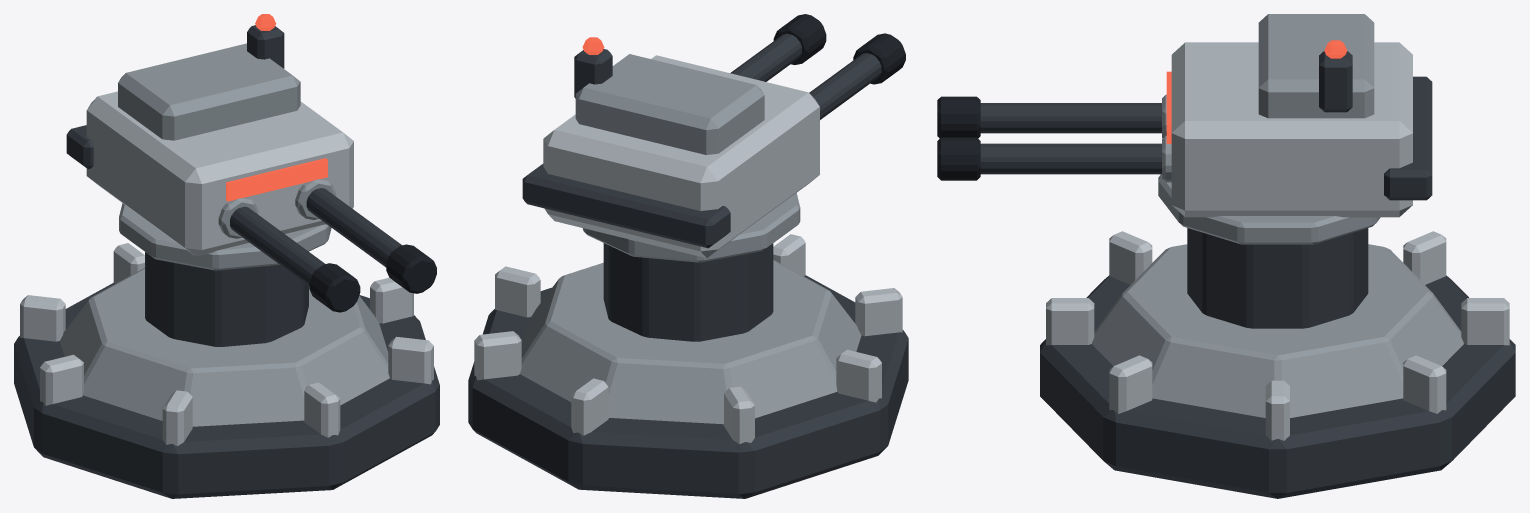
Rendered from exo-turret.glb.
3 views of the same model, side by side, from view 1: azimuth 30°, elevation 25°; view 2: azimuth 150°, elevation 25°; view 3: azimuth 270°, elevation 25° (orthographic). The views are drawn at different scales.
Visible parts, largest first — view 1: body, head; view 2: body, head; view 3: body, head.
Boxes of the visible parts, box(x1,y1,x2,y2) form: body: box(14, 203, 439, 498); head: box(66, 14, 436, 312); body: box(468, 193, 908, 498); head: box(522, 14, 905, 258); body: box(1040, 174, 1515, 498); head: box(937, 14, 1432, 217).
Size of the model in its own units: 4.92 by 4.52 by 5.99.
